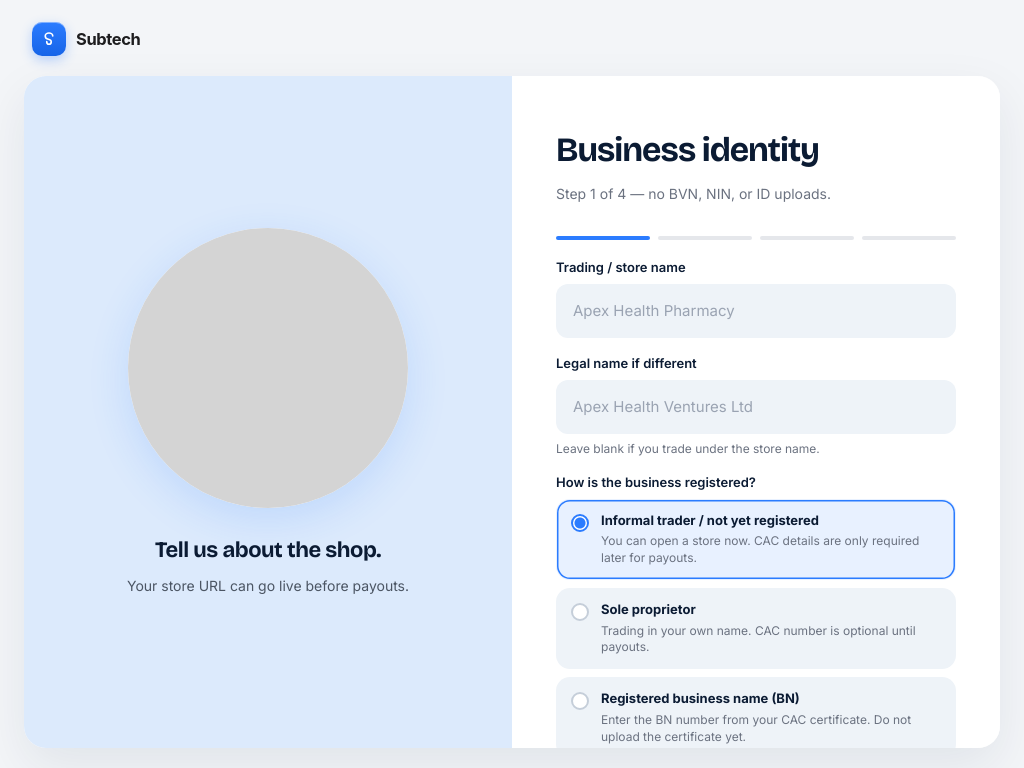
Merchant auth pages › asks for CAC number only for registered businesses
Type "Apex Pharmacy" into the field labelled "Trading / store name" at (756, 311), box x1=556 y1=284 x2=956 y2=338
(page scrolled)
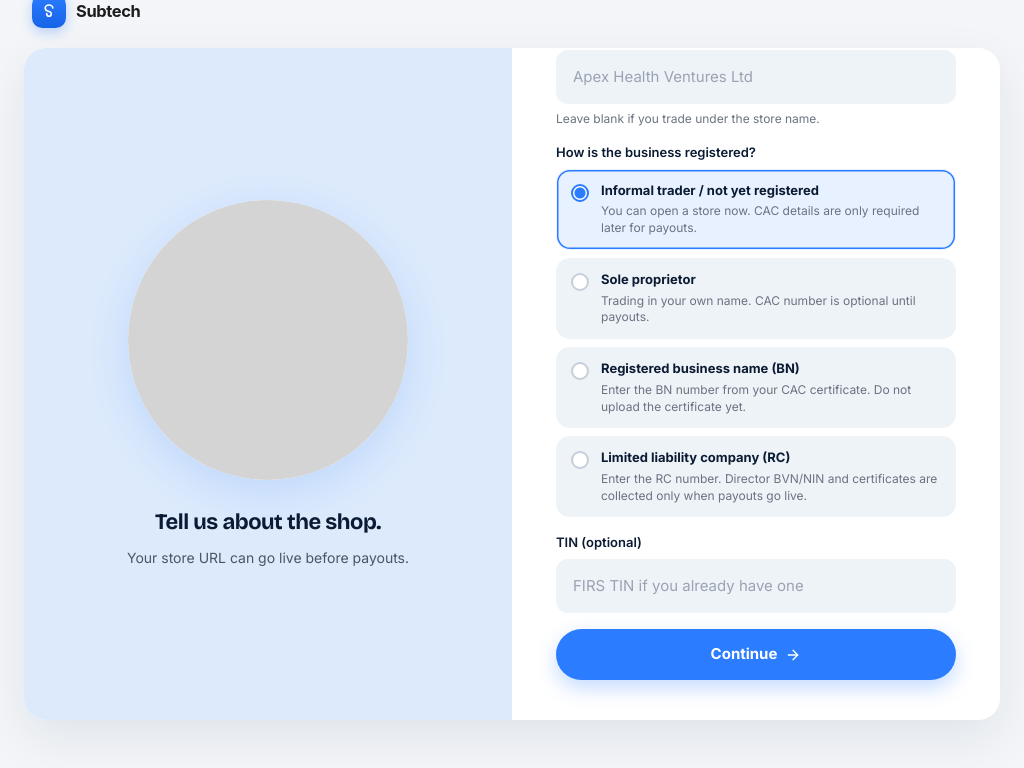
Click the radio button labelled "Limited liability company" at (580, 460), box x1=571 y1=451 x2=589 y2=469
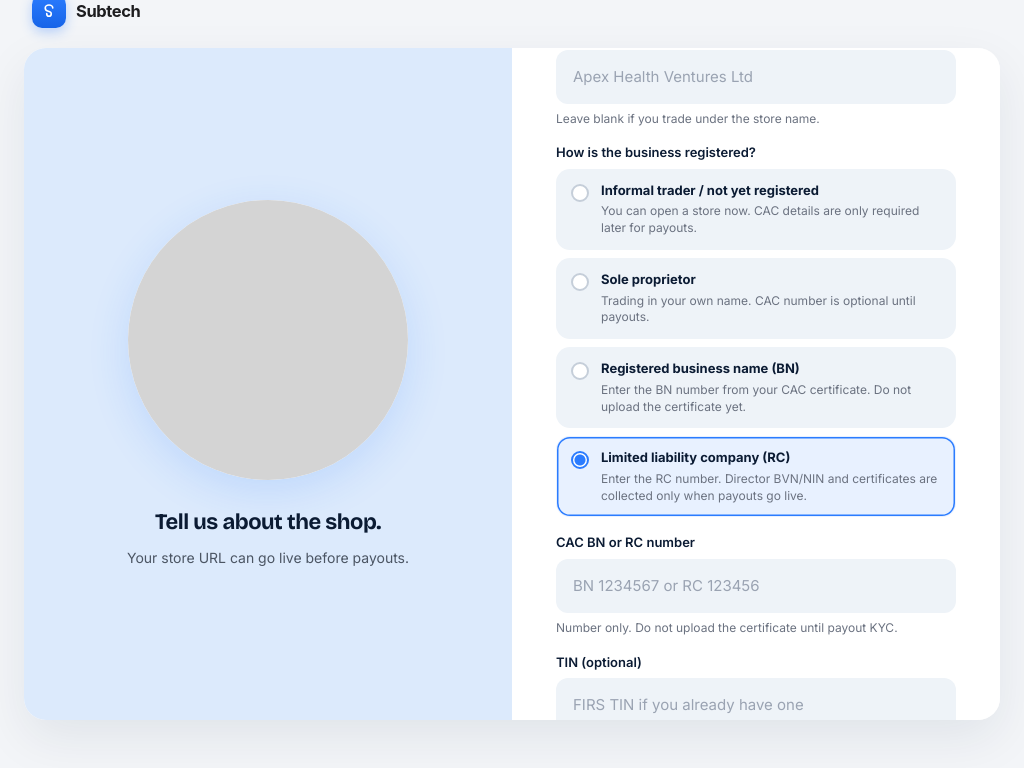
Expected: the field labelled "CAC BN or RC number" is shown, x1=556 y1=559 x2=956 y2=614
